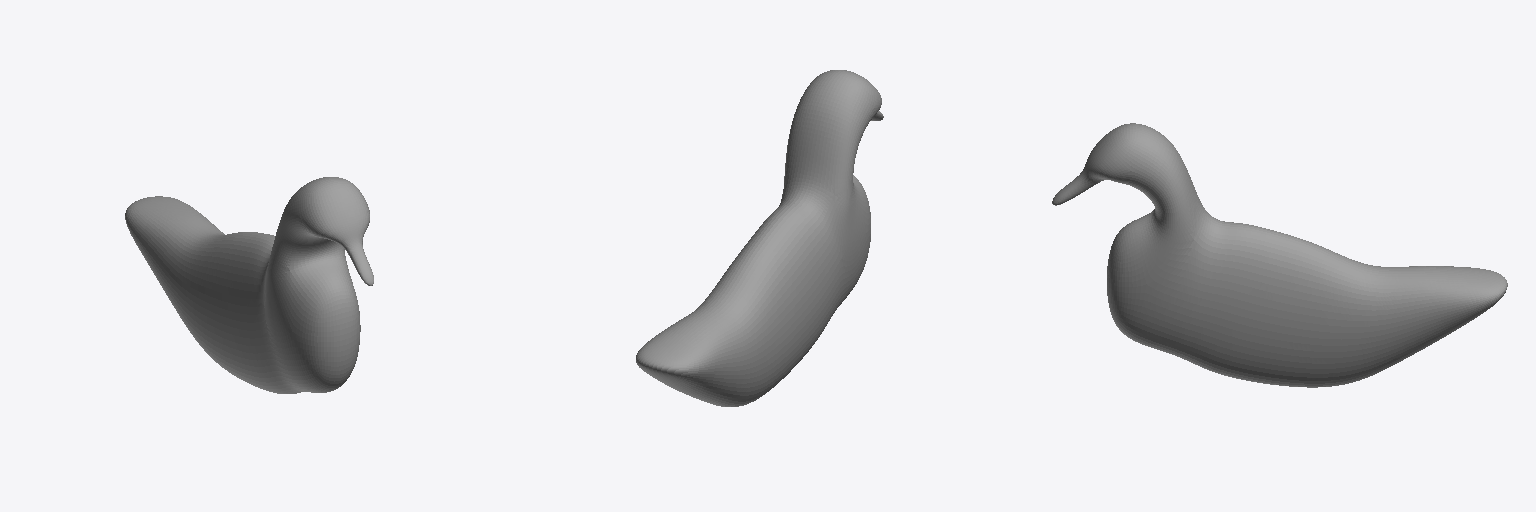
Rendered from duck.obj.
3 renders of one model, left to right at view 1: azimuth 30°, elevation 25°; view 2: azimuth 150°, elevation 25°; view 3: azimuth 270°, elevation 25°, orthographic.
Parts seen in each view (by area): view 1: Cube_Cube.001; view 2: Cube_Cube.001; view 3: Cube_Cube.001.
Part boxes in pixels (bbox=[...]): Cube_Cube.001: bbox=[125, 177, 373, 393]; Cube_Cube.001: bbox=[636, 70, 883, 406]; Cube_Cube.001: bbox=[1052, 123, 1507, 387].
Size of the model in its own units: 0.2074 by 0.7526 by 1.2.